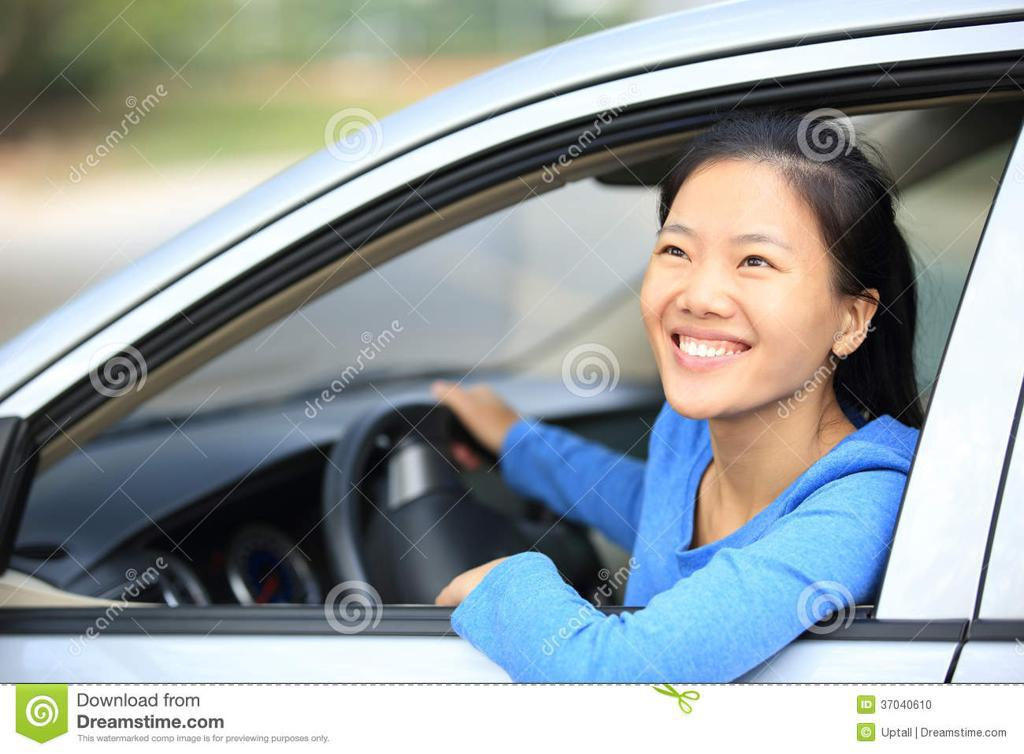face: (645, 163, 837, 415)
